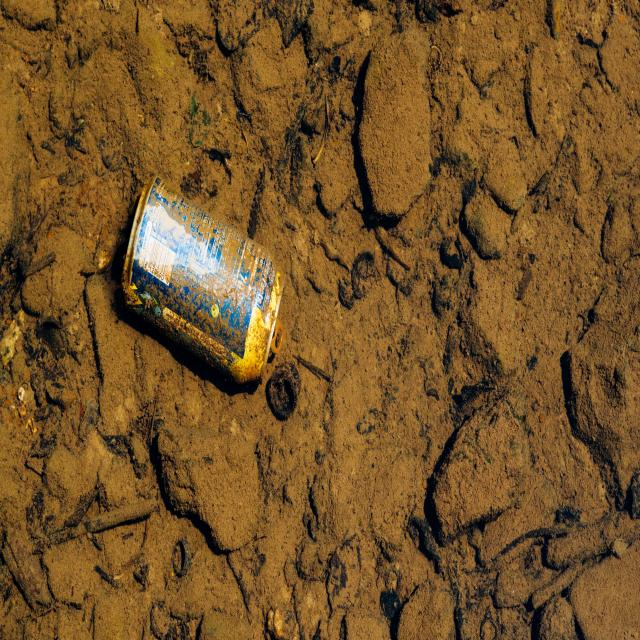metal: (144, 201, 283, 377)
